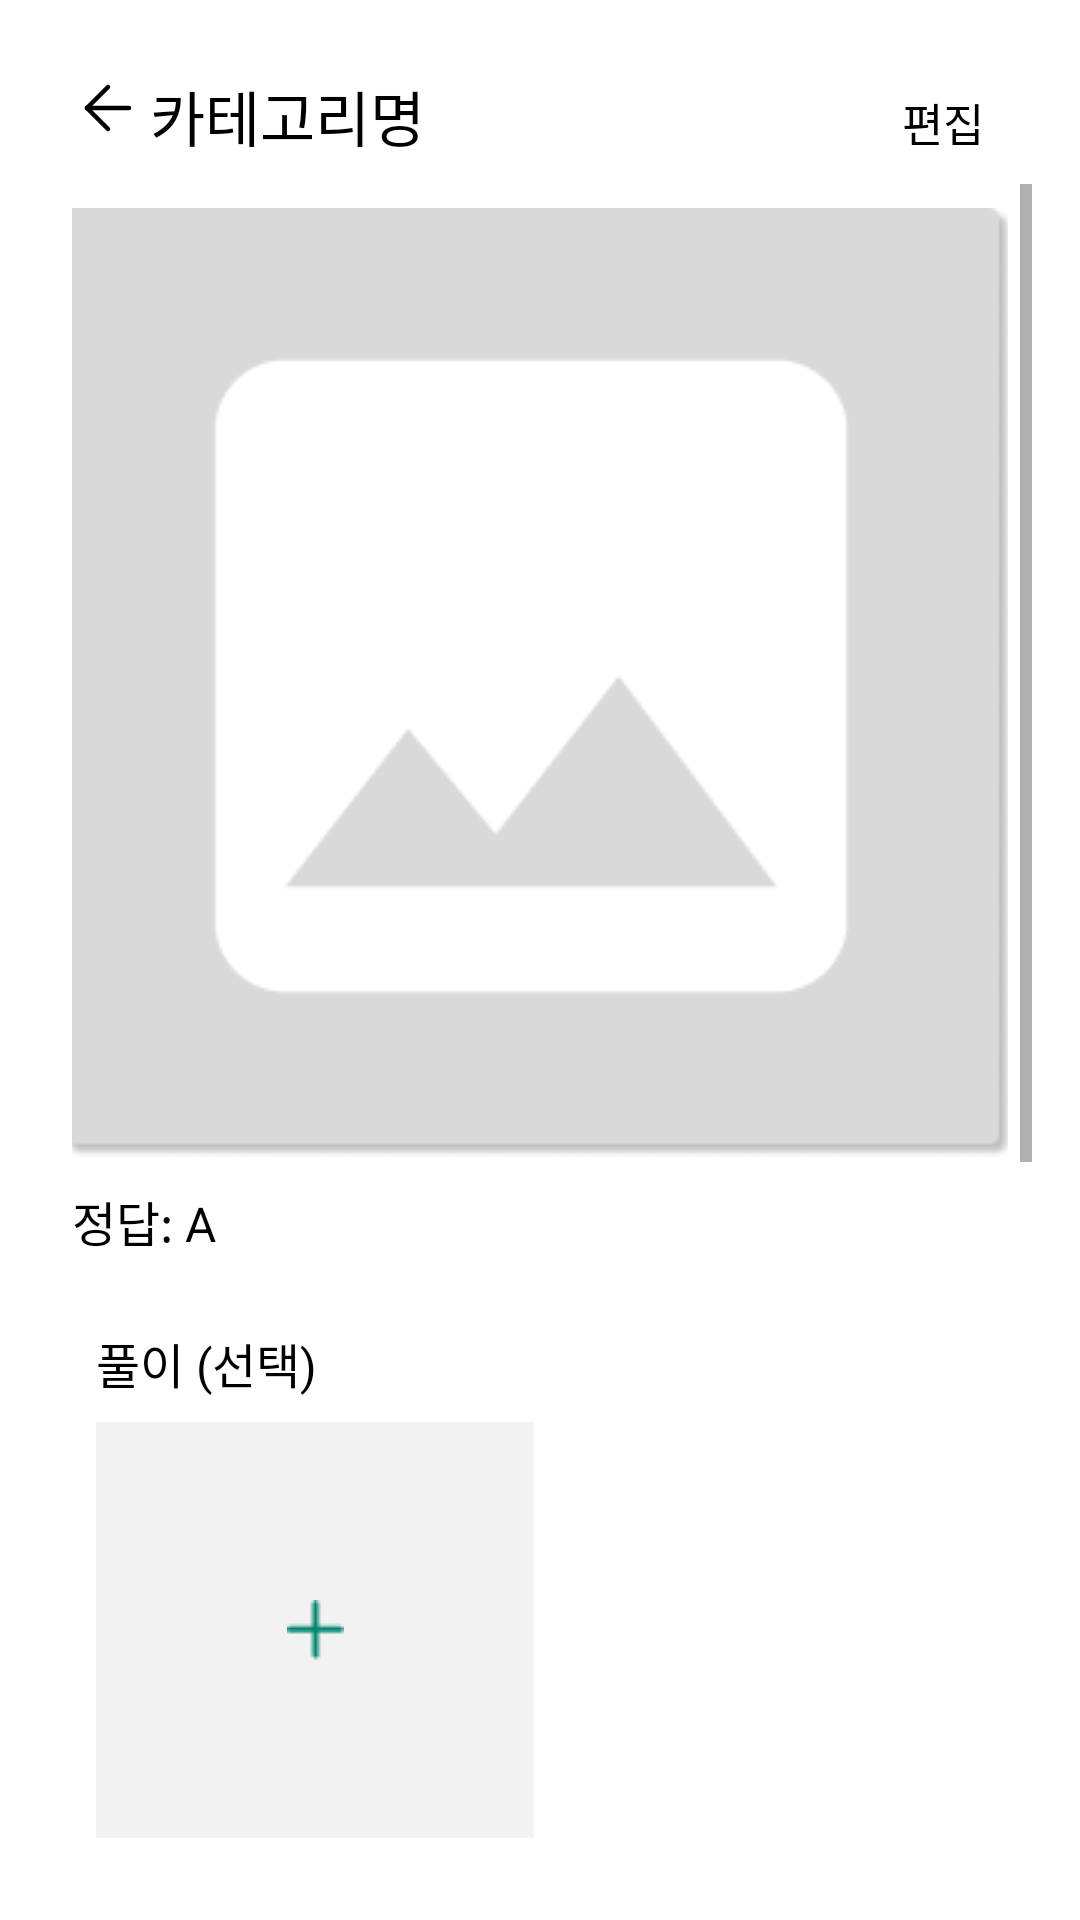

Locate icon controls on the screen. Image size 1080×1920, boxes as (x1, y1, x2, y2).
arrow left: (84, 84, 132, 132)
